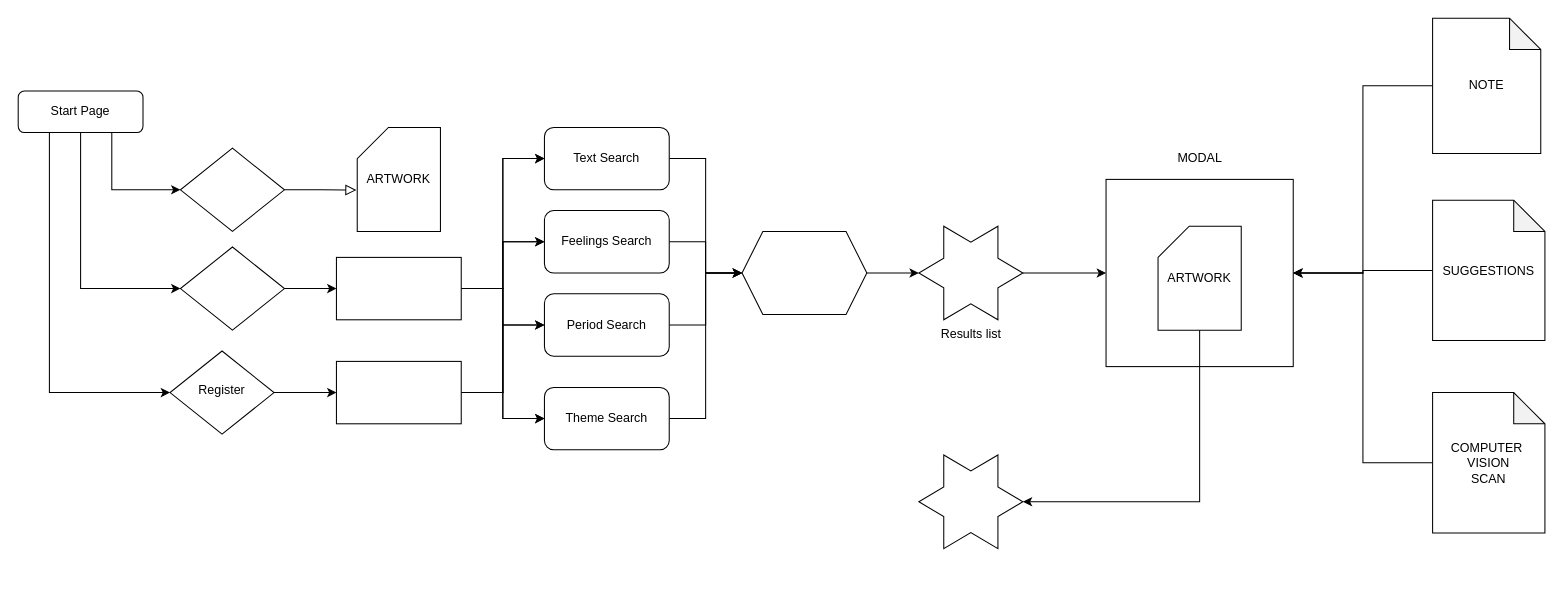
The diagram is 1563 pixels wide and 589 high, and some of its shapes have lost their labels. Here are the shapes that lost their labels. From the top down, the box of each, then its label:
(179, 147, 284, 231): Random Search
(179, 246, 284, 330): Login
(335, 256, 461, 320): Login Form
(741, 230, 867, 315): MUSEUMS
(335, 360, 461, 424): Register Form
(918, 454, 1023, 549): Favorites list
